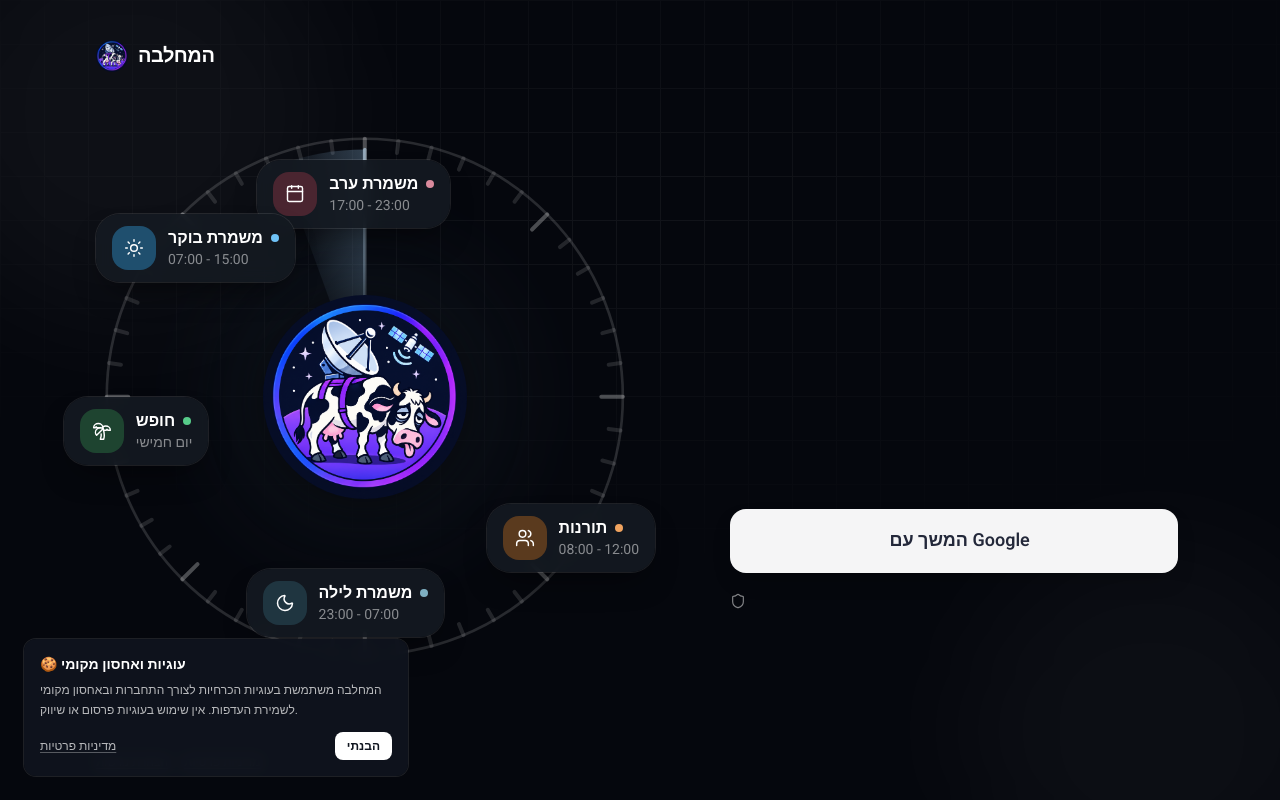
LoginPage — cookie/storage transparency notice (Phase 9D) › clicking "הבנתי" writes the dismissal key and hides the notice, leaving the footer links untouched
Click the button "הבנתי" at (363, 746), box top-left (335, 732), bottom-right (392, 760)
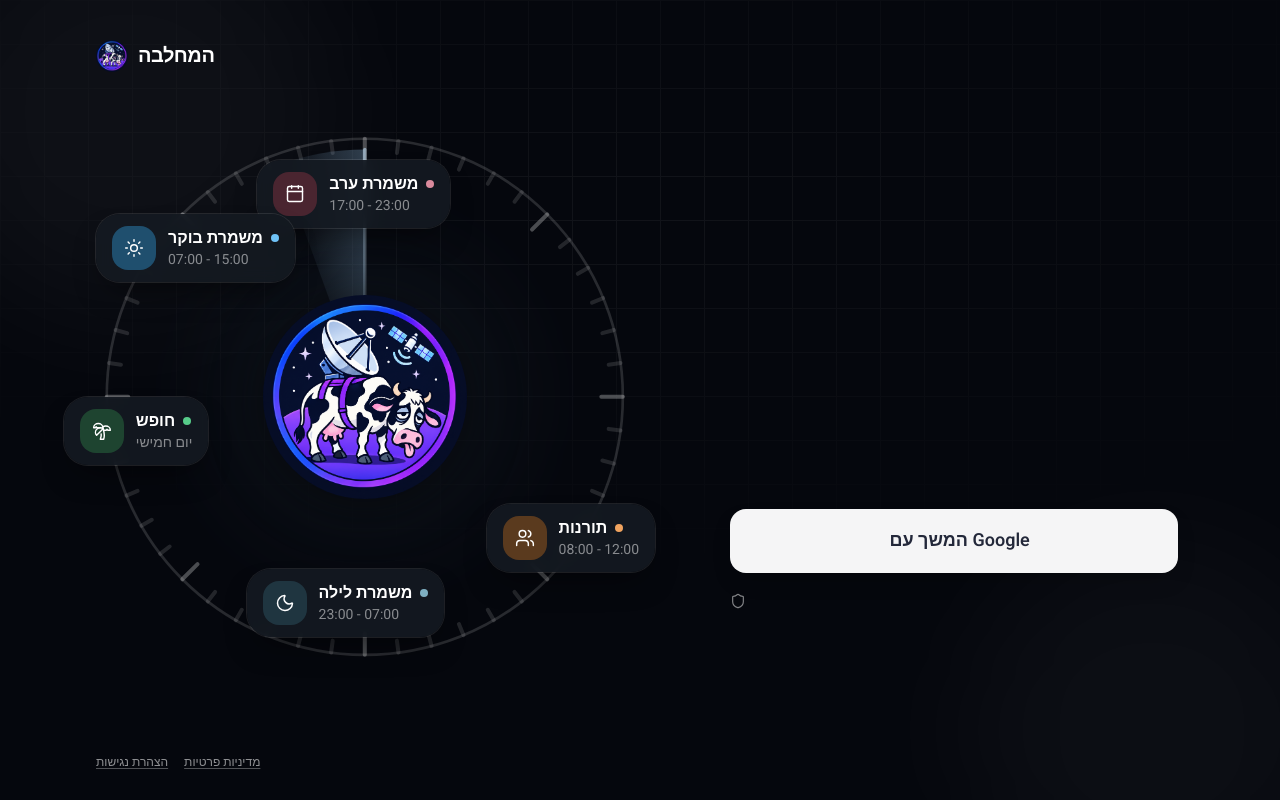
Result: the element with test id "privacy-storage-notice" is gone
